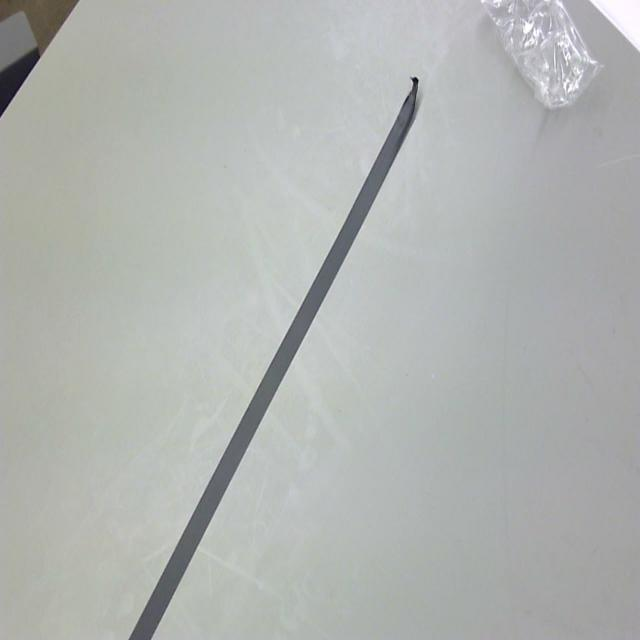tape: (100, 63, 429, 640)
